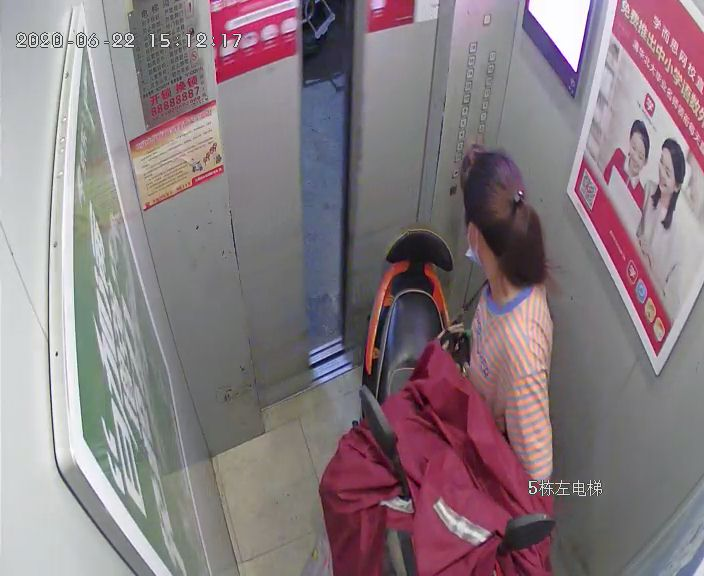Electric-bicycle: (324, 226, 552, 573)
